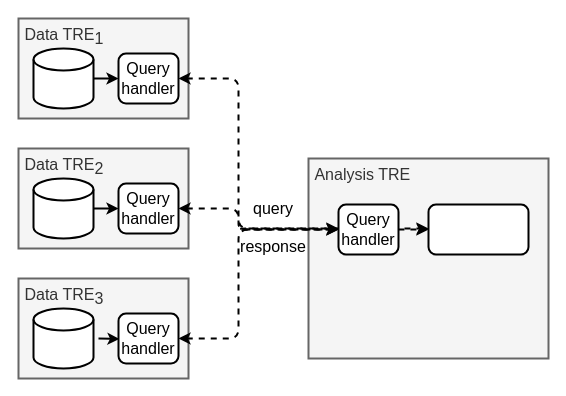
Image size: 566x396. Some labels were removed from this diagram. The centre of each missing label's shape, as x and y in pixels:
"D 1" goes at (x=63, y=78).
"D 2" goes at (x=63, y=208).
"D 3" goes at (x=63, y=338).
"Project" goes at (x=478, y=229).
